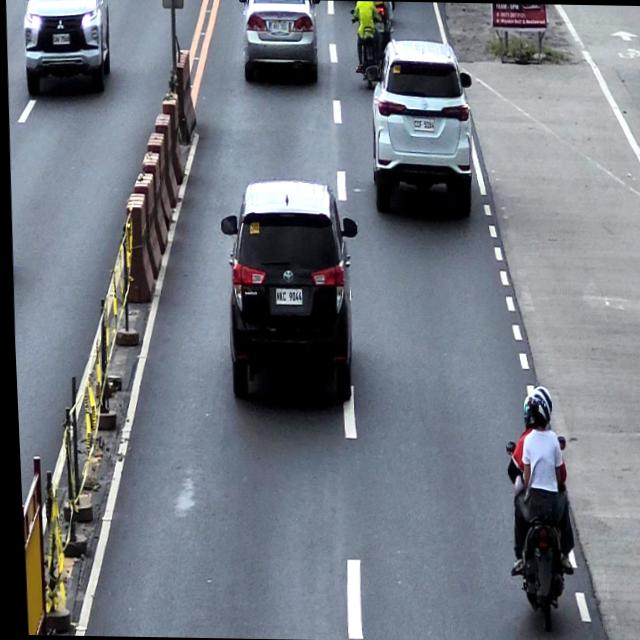Car: (214, 178, 364, 404), (362, 36, 477, 220), (18, 0, 112, 91), (238, 0, 322, 87)
License-Plate: (272, 288, 300, 304), (411, 116, 434, 130), (51, 32, 70, 45), (270, 20, 289, 32)
Motorcycle: (496, 432, 570, 618), (349, 7, 383, 80)
